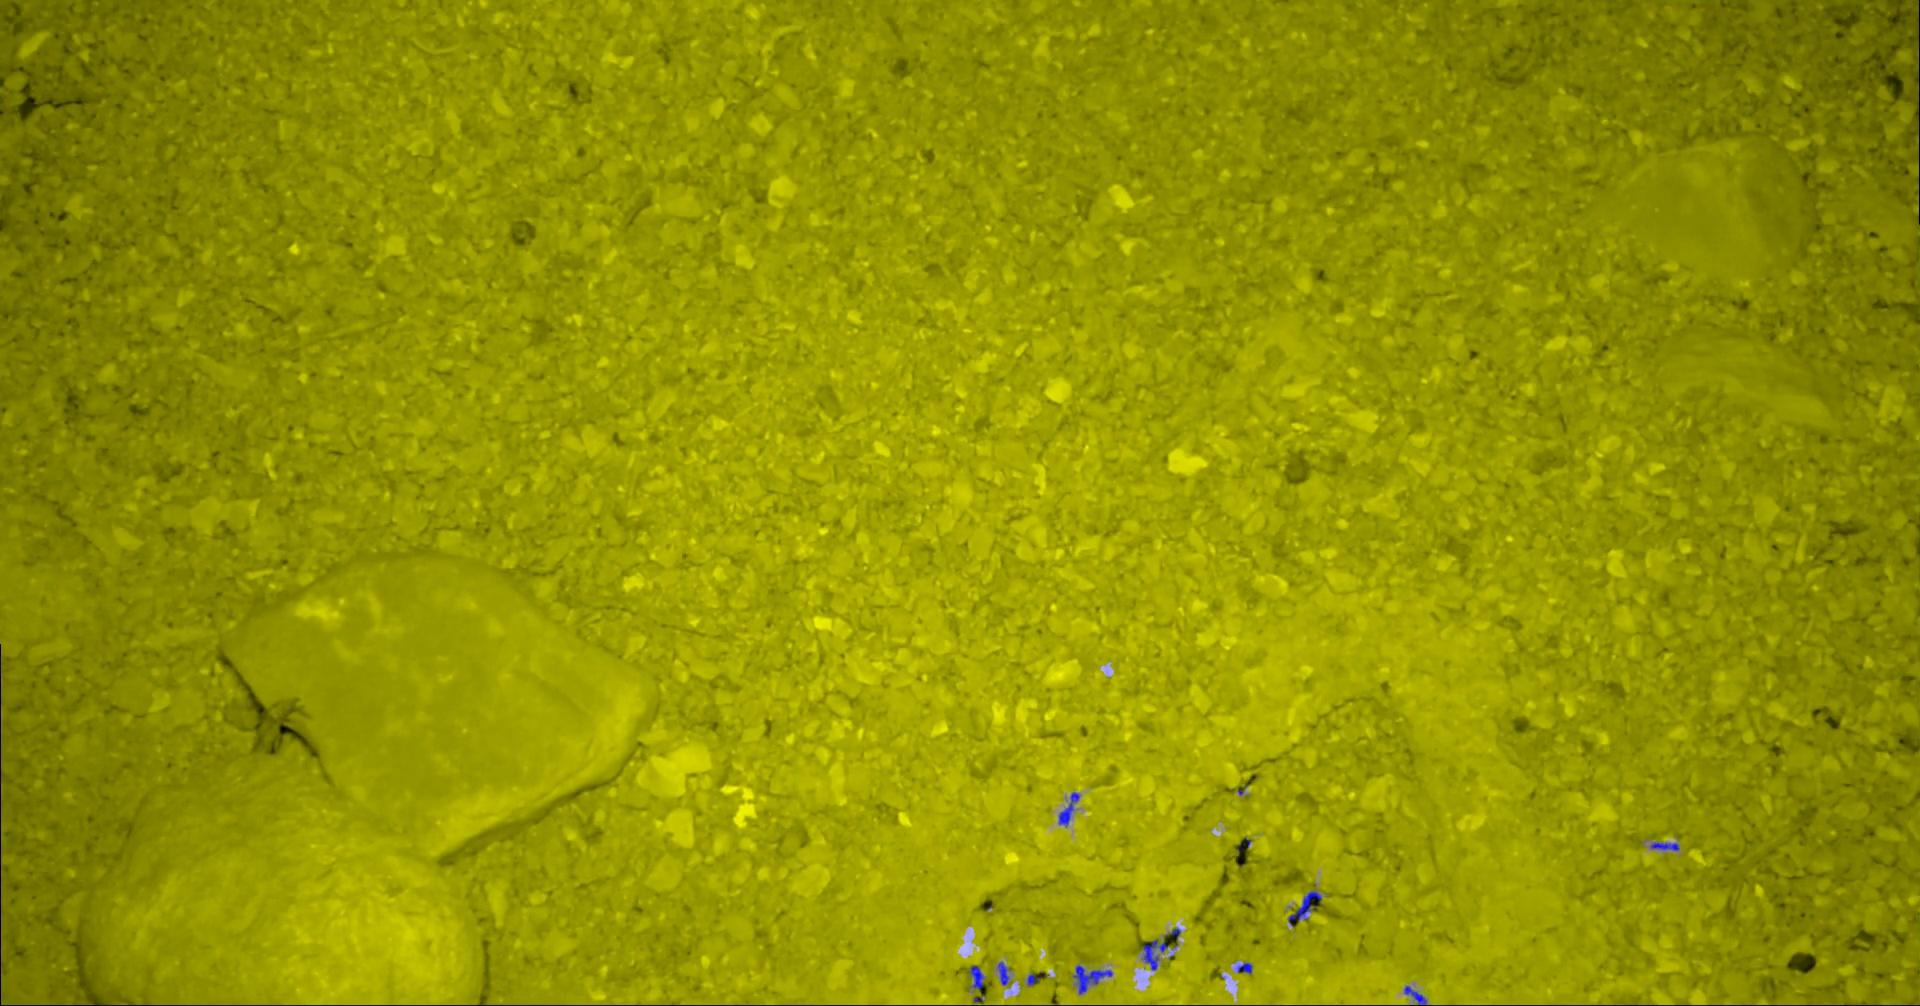ant: (1073, 965, 1112, 993), (1288, 890, 1321, 923), (1142, 935, 1167, 969), (1058, 793, 1079, 826), (1404, 984, 1426, 1005), (969, 965, 983, 988), (997, 962, 1010, 984), (1650, 842, 1679, 850), (1237, 962, 1251, 973), (1027, 973, 1039, 984), (1917, 57, 1919, 111)
